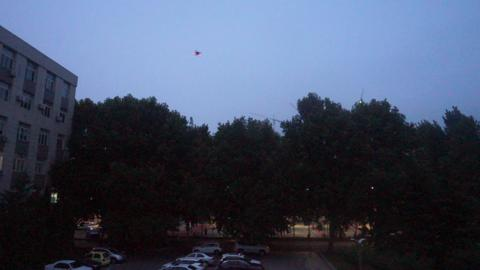UAV: (193, 50, 202, 56)
